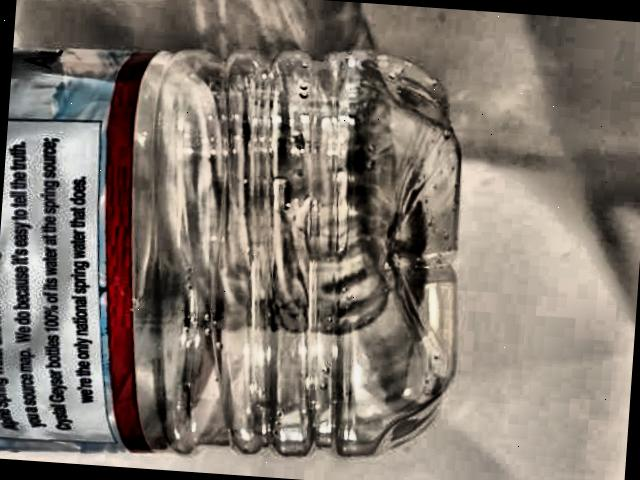Bottles: (0, 17, 489, 480)
